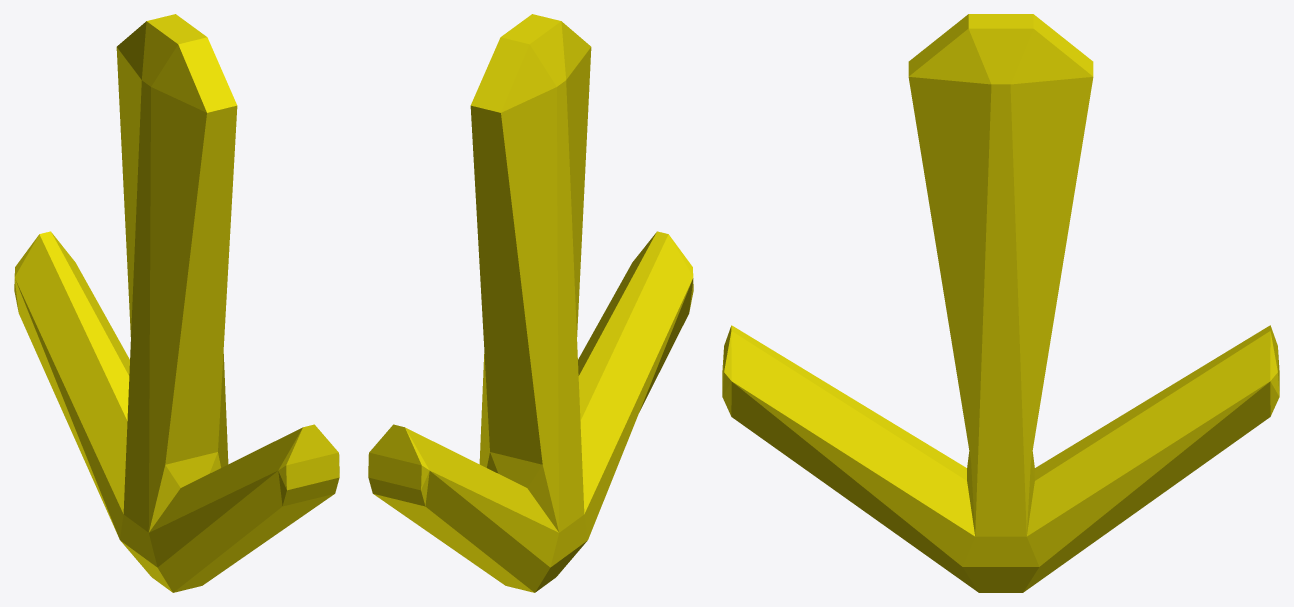
Rendered from indicator.fbx.
3 renders of one model, left to right at view 1: azimuth 30°, elevation 25°; view 2: azimuth 150°, elevation 25°; view 3: azimuth 270°, elevation 25°, orthographic. The views are drawn at different scales.
Parts seen in each view (by area): view 1: Indicator; view 2: Indicator; view 3: Indicator.
Boxes of the visible parts, x1,y1,x2,y2 form: Indicator: [14, 14, 339, 592]; Indicator: [368, 14, 693, 592]; Indicator: [722, 14, 1279, 592].
Size of the model in its own units: 32.05 by 207 by 185.
